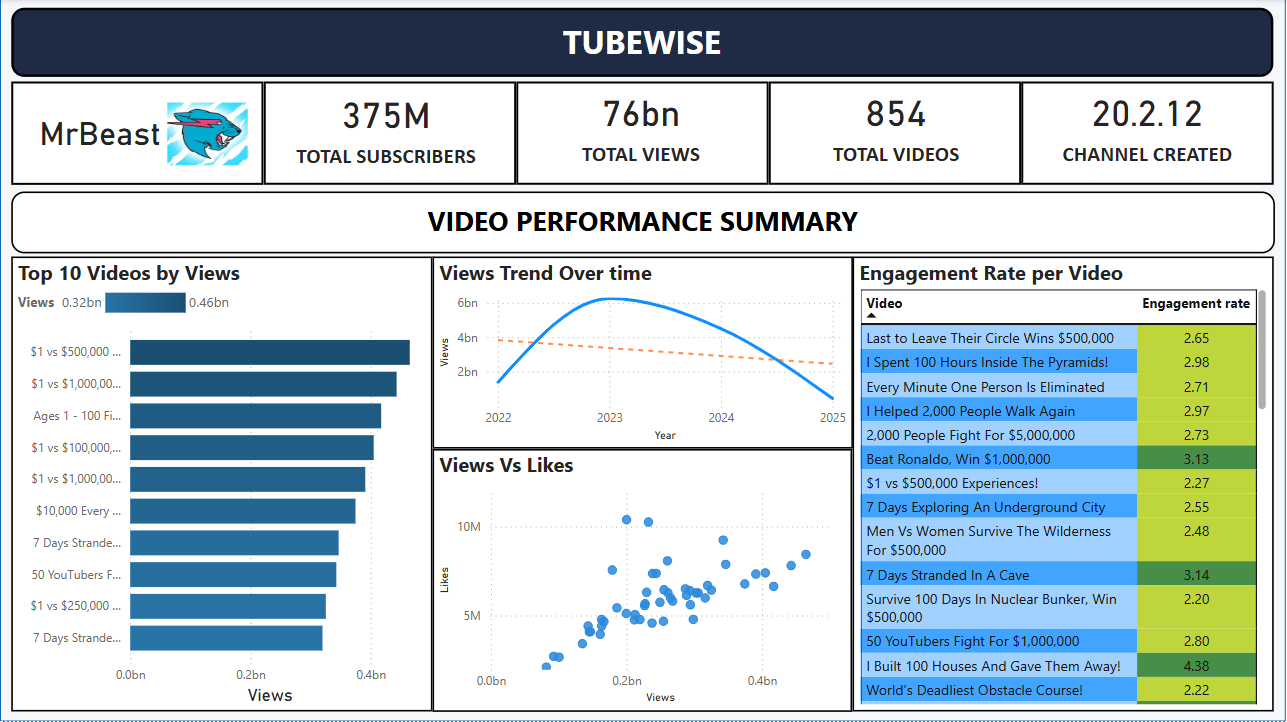

The dashboard page shown, as its layout file describes it:
{"tool":"powerbi","page":{"name":"Page 1","canvas":[1280,720],"ordinal":0},"visuals":[{"type":"shape","box":[11.2,82.5,251,102.9],"z":0,"group":"g1"},{"type":"textbox","box":[11.5,8.5,1256.2,68.5],"z":1000},{"type":"shape","box":[514.1,82.5,251.4,102.9],"z":1000,"group":"g1"},{"type":"image","box":[178.3,110.2,71.4,49.7],"z":1000,"group":"g4"},{"type":"shape","box":[262.6,82.5,251.4,102.9],"z":2000,"group":"g1"},{"type":"textbox","box":[11.2,191.2,1257.5,61.2],"z":2000},{"type":"shape","box":[765.5,82.5,251.4,102.9],"z":3000,"group":"g1"},{"type":"barChart","title":"Top 10 Videos by Views","fields":{"Y":["Sum(Video Summary.Views)"],"Category":["Video Summary.Title"]},"box":[11.2,256.3,419.2,452.8],"z":3000},{"type":"shape","box":[1016.9,82.5,251.4,102.9],"z":4000,"group":"g1"},{"type":"scatterChart","title":"Views Vs Likes","fields":{"X":["Sum(Video Summary.Views)"],"Y":["Sum(Video Summary.Likes)"],"Category":["Video Summary.Title"]},"box":[430.4,447.8,418,261.2],"z":4000},{"type":"group","id":"g1","title":"Group 2","box":[11.2,82.5,1257.1,102.9],"z":5000},{"type":"group","id":"g2","title":"Group 3","box":[279.1,96.8,211.2,80],"z":5000,"group":"g1"},{"type":"group","id":"g3","title":"Group 3","box":[532.8,96.4,211,80],"z":6000},{"type":"group","id":"g4","title":"Group 1","box":[178.3,110.2,71.4,49.7],"z":6000,"group":"g1"},{"type":"group","id":"g5","title":"Group 3","box":[785.8,96.4,211,80],"z":7000},{"type":"card","fields":{"Values":["Min(Channel Summary.Channel Name)"]},"box":[18,110.2,160.4,49.8],"z":7000,"group":"g1"},{"type":"group","id":"g6","title":"Group 3","box":[1036.8,96.4,211,80],"z":8000},{"type":"card","fields":{"Values":["Sum(Channel Summary.Total Views)"]},"box":[532.8,96.4,211.2,51.9],"z":9000,"group":"g3"},{"type":"card","fields":{"Values":["Sum(Channel Summary.Total Videos)"]},"box":[785.8,96.4,211.2,51.9],"z":9000,"group":"g5"},{"type":"card","fields":{"Values":["Min(Channel Summary.Channel Created)"]},"box":[1036.8,96.4,211.2,51.9],"z":9000,"group":"g6"},{"type":"card","fields":{"Values":["Sum(Channel Summary.Total Subscribers)"]},"box":[279.1,96.8,211.2,52.5],"z":9000,"group":"g2"},{"type":"tableEx","title":"Engagement Rate per Video","fields":{"Values":["Video Summary.Title","Sum(Video Summary.Engagement rate)"]},"box":[848.4,256.3,419.2,452.8],"z":9000},{"type":"textbox","box":[532.8,137,211.2,39.4],"z":9500,"group":"g3"},{"type":"textbox","box":[785.8,137,211.2,39.4],"z":9500,"group":"g5"},{"type":"textbox","box":[1036.8,137,211.2,39.4],"z":9500,"group":"g6"},{"type":"textbox","box":[279.1,137.4,211.2,39.4],"z":9500,"group":"g2"},{"type":"lineChart","title":"Views Trend Over time","fields":{"Category":["Video Summary.Publish Date.Variation.Date Hierarchy.Year","Video Summary.Publish Date.Variation.Date Hierarchy.Month"],"Y":["Sum(Video Summary.Views)"]},"box":[430,256.2,418.8,191.2],"z":10000}]}

Visuals, with their boxes in screenshot pixels (x1, y1, x2, y2), scaled from the page's 1280x720 canvas onto the 1287x722 screenshot:
shape: box(11, 83, 264, 186)
textbox: box(12, 9, 1275, 77)
shape: box(517, 83, 770, 186)
image: box(179, 111, 251, 160)
shape: box(264, 83, 517, 186)
textbox: box(11, 192, 1276, 253)
shape: box(770, 83, 1022, 186)
"Top 10 Videos by Views" barChart: box(11, 257, 433, 711)
shape: box(1022, 83, 1275, 186)
"Views Vs Likes" scatterChart: box(433, 449, 853, 711)
"Group 2" group: box(11, 83, 1275, 186)
"Group 3" group: box(281, 97, 493, 177)
"Group 3" group: box(536, 97, 748, 177)
"Group 1" group: box(179, 111, 251, 160)
"Group 3" group: box(790, 97, 1002, 177)
card - Min(Channel Summary.Channel Name): box(18, 111, 179, 160)
"Group 3" group: box(1042, 97, 1255, 177)
card - Sum(Channel Summary.Total Views): box(536, 97, 748, 149)
card - Sum(Channel Summary.Total Videos): box(790, 97, 1002, 149)
card - Min(Channel Summary.Channel Created): box(1042, 97, 1255, 149)
card - Sum(Channel Summary.Total Subscribers): box(281, 97, 493, 150)
"Engagement Rate per Video" tableEx: box(853, 257, 1275, 711)
textbox: box(536, 137, 748, 177)
textbox: box(790, 137, 1002, 177)
textbox: box(1042, 137, 1255, 177)
textbox: box(281, 138, 493, 177)
"Views Trend Over time" lineChart: box(432, 257, 853, 449)
